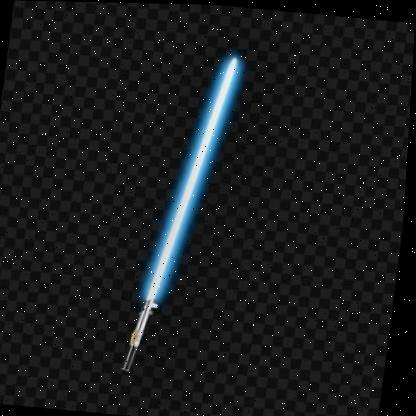lightsaber: (118, 45, 243, 381)
